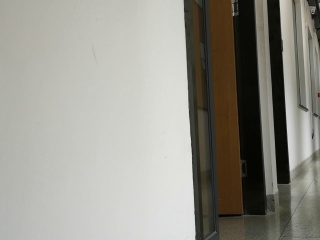room: (179, 1, 268, 231)
